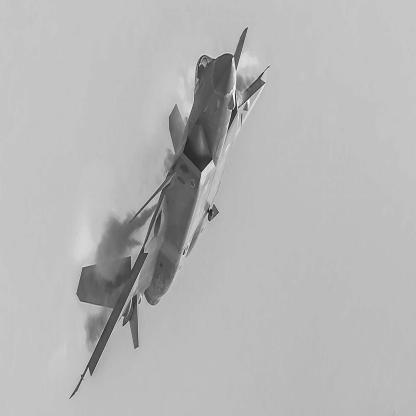J20: (70, 28, 271, 401)
